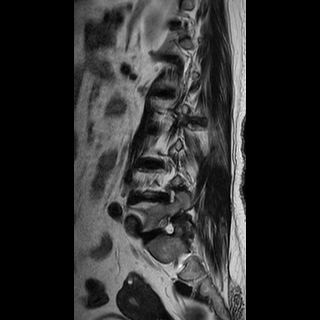LFS0: (153, 209, 180, 246)
